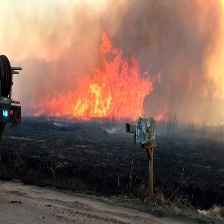fire: (46, 49, 150, 123)
smoke: (138, 3, 224, 122), (4, 3, 78, 110)
